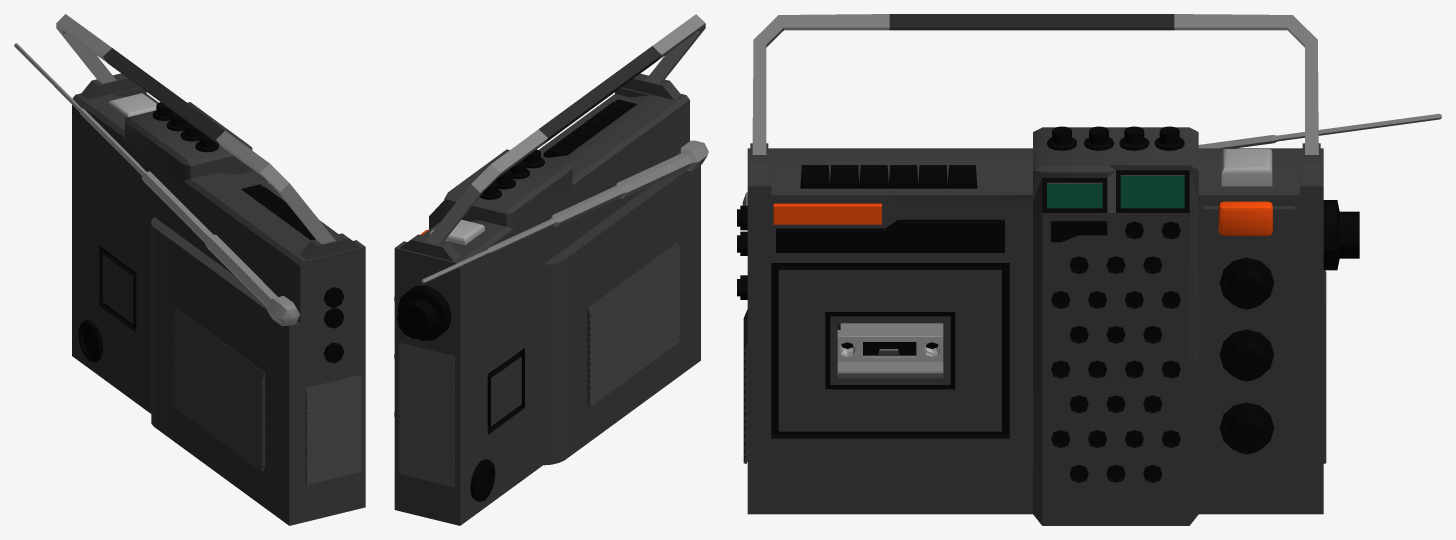
Rendered from Radio_02.glb.
3 renders of one model, left to right at view 1: azimuth 30°, elevation 25°; view 2: azimuth 150°, elevation 25°; view 3: azimuth 270°, elevation 25°, orthographic. The views are drawn at different scales.
Visible parts, largest first — view 1: Mesh_Radio_02; view 2: Mesh_Radio_02; view 3: Mesh_Radio_02.
Part boxes in pixels (x1,y1,x2,y2): Mesh_Radio_02: [14, 14, 365, 525]; Mesh_Radio_02: [394, 14, 708, 525]; Mesh_Radio_02: [737, 14, 1441, 525].
Size of the model in its own units: 0.1234 by 0.3584 by 0.5104.
Materials: 1 (1 with a texture image).
